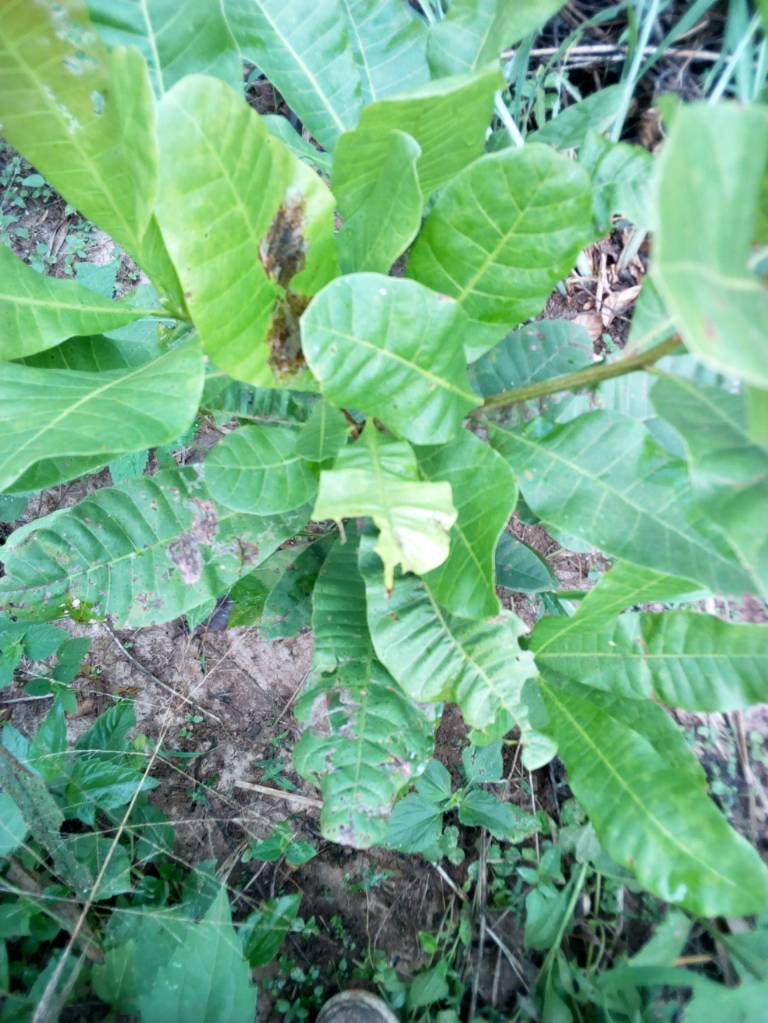Dysdercus wolkerii: (165, 66, 385, 403)
